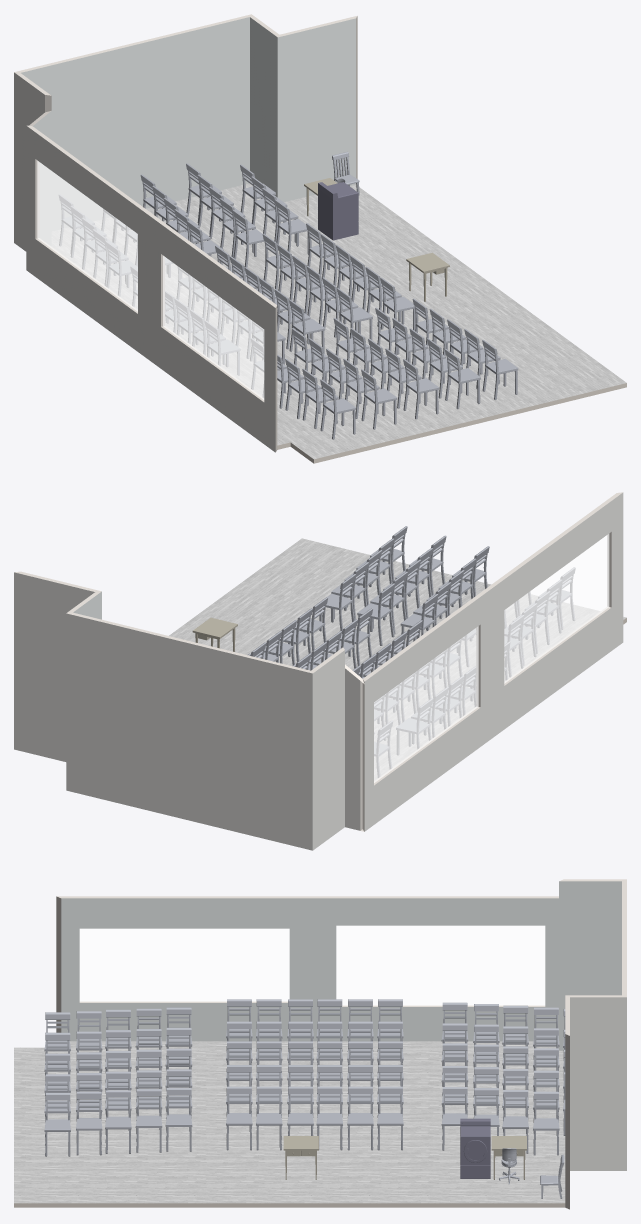
3 renders of one model, top to bottom at view 1: azimuth 30°, elevation 25°; view 2: azimuth 150°, elevation 25°; view 3: azimuth 270°, elevation 25°, orthographic. The views are drawn at different scales.
Visible parts, largest first — view 1: floor_Other_0, wall_5, wall_34, wall_7, window_1, window_3, window_0, window_2, wall_9, wall_26, washerDryer0, wall_37 (+24 smaller); view 2: wall_30, wall_34, floor_Other_0, wall_38, window_1, window_3, window_0, window_2, wall_26, wall_22, wall_37, wall_35 (+24 smaller); view 3: floor_Other_0, wall_6, window_1, window_3, window_0, window_2, wall_46, wall_4, floor_Other_2, washerDryer0, wall_35, wall_37 (+79 smaller).
Boxes of the visible parts, <box> form: floor_Other_0: <box>52,183,626,459</box>; wall_5: <box>21,17,249,231</box>; wall_34: <box>26,126,275,452</box>; wall_7: <box>277,18,355,202</box>; window_1: <box>37,161,137,311</box>; window_3: <box>37,161,137,311</box>; window_0: <box>163,256,263,399</box>; window_2: <box>163,256,263,399</box>; wall_9: <box>250,17,277,197</box>; wall_26: <box>14,72,44,251</box>; washerDryer0: <box>318,182,358,240</box>; wall_37: <box>35,159,277,451</box>; wall_30: <box>66,613,312,850</box>; wall_34: <box>364,492,623,831</box>; floor_Other_0: <box>169,538,626,780</box>; wall_38: <box>14,572,94,761</box>; window_1: <box>374,626,478,782</box>; window_3: <box>374,627,478,782</box>; window_0: <box>504,534,608,683</box>; window_2: <box>504,534,608,682</box>; wall_26: <box>312,650,344,850</box>; wall_22: <box>345,668,360,830</box>; wall_37: <box>362,532,611,831</box>; wall_35: <box>363,492,622,681</box>; floor_Other_0: <box>14,1041,565,1203</box>; wall_6: <box>61,898,558,1041</box>; window_1: <box>336,926,544,1005</box>; window_3: <box>336,926,544,1005</box>; window_0: <box>80,929,289,1001</box>; window_2: <box>80,929,289,1001</box>; wall_46: <box>570,997,626,1170</box>; wall_4: <box>559,881,621,1050</box>; floor_Other_2: <box>14,1203,565,1207</box>; washerDryer0: <box>460,1118,490,1178</box>; wall_35: <box>57,896,558,898</box>; wall_37: <box>56,896,545,1032</box>.
Bounding box in the file's own units: 8.1 × 3.95 × 12.63.
Materials: 100 (1 with a texture image).
